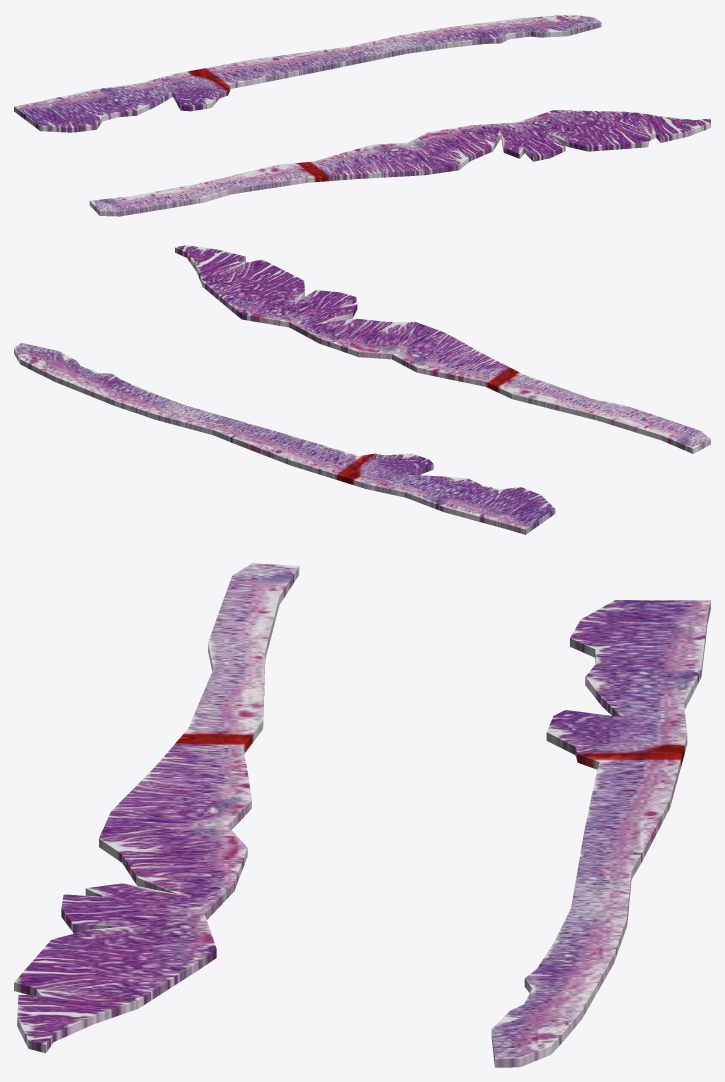
3 views of the same model, one above another, from view 1: azimuth 30°, elevation 25°; view 2: azimuth 150°, elevation 25°; view 3: azimuth 270°, elevation 25° (orthographic). The views are drawn at different scales.
Visible parts, largest first — view 1: 平面; view 2: 平面; view 3: 平面.
Boxes of the visible parts, left/top/right/bottom form: 平面: left=14, top=14, right=710, bottom=216; 平面: left=14, top=245, right=710, bottom=534; 平面: left=14, top=563, right=710, bottom=1067.
Bounding box in the file's own units: 17.39 × 0.14 × 10.33.
Materials: 1 (1 with a texture image).
